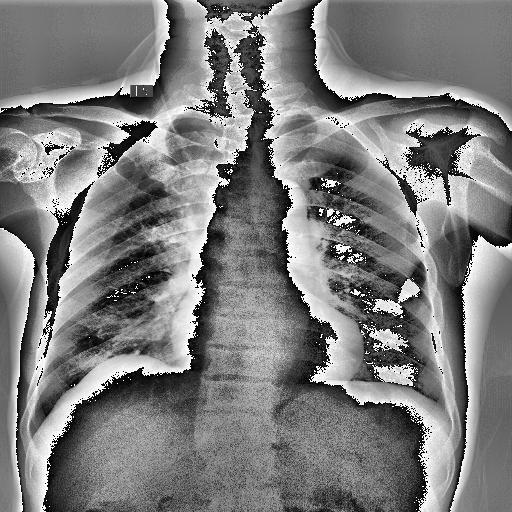0- Aortic enlargement: (247, 177, 305, 246), (248, 176, 308, 227), (253, 181, 310, 228)
11- Pleural thickening: (160, 116, 212, 130)
9- Other lesion: (46, 341, 154, 415)
